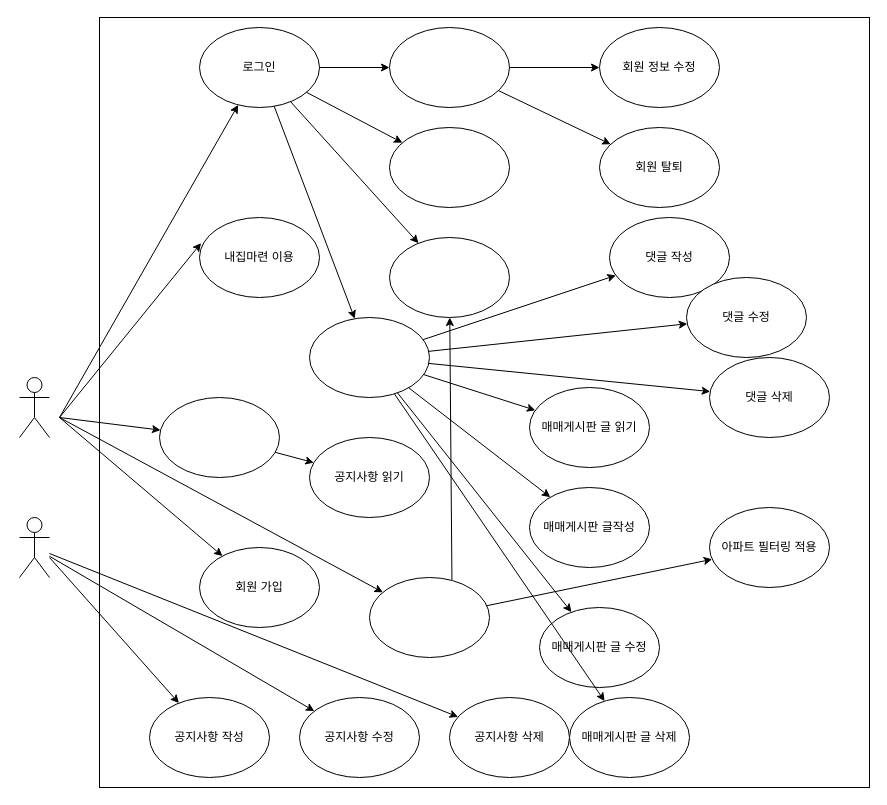
The diagram is 887 pixels wide and 805 high, and some of its shapes have lost their labels. Each missing label, with the centre of its shape:
"Admin" goes at [34,547].
"User" goes at [34,407].
"공지사항 게시판 이동" goes at [219,437].
"매매게시판 이동" goes at [369,357].
"아파트 검색" goes at [429,617].
"찜 목록 이용" goes at [449,277].
"추천 아파트 검색" goes at [449,167].
"회원 정보 확인" goes at [449,67].
